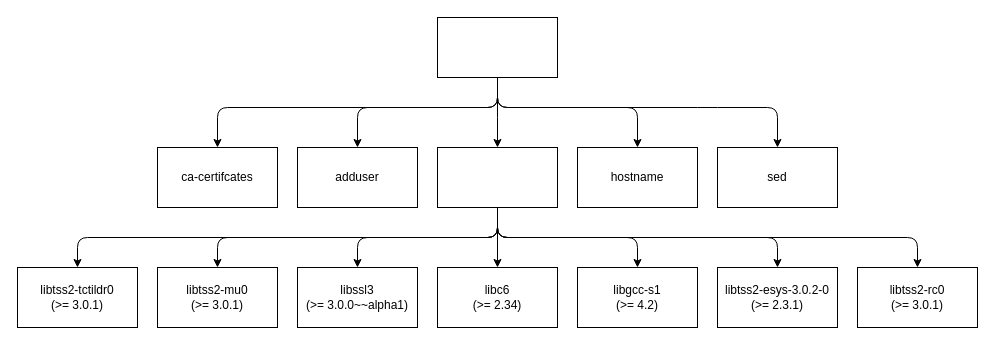
Some shapes in this 995 by 345 pixel diagram are drawn without their labels. Each missing label, with the centre of its shape:
"aziot-edge" goes at point (497, 47).
"aziot-identity-service (= 1.4.6-1)" goes at point (497, 177).
